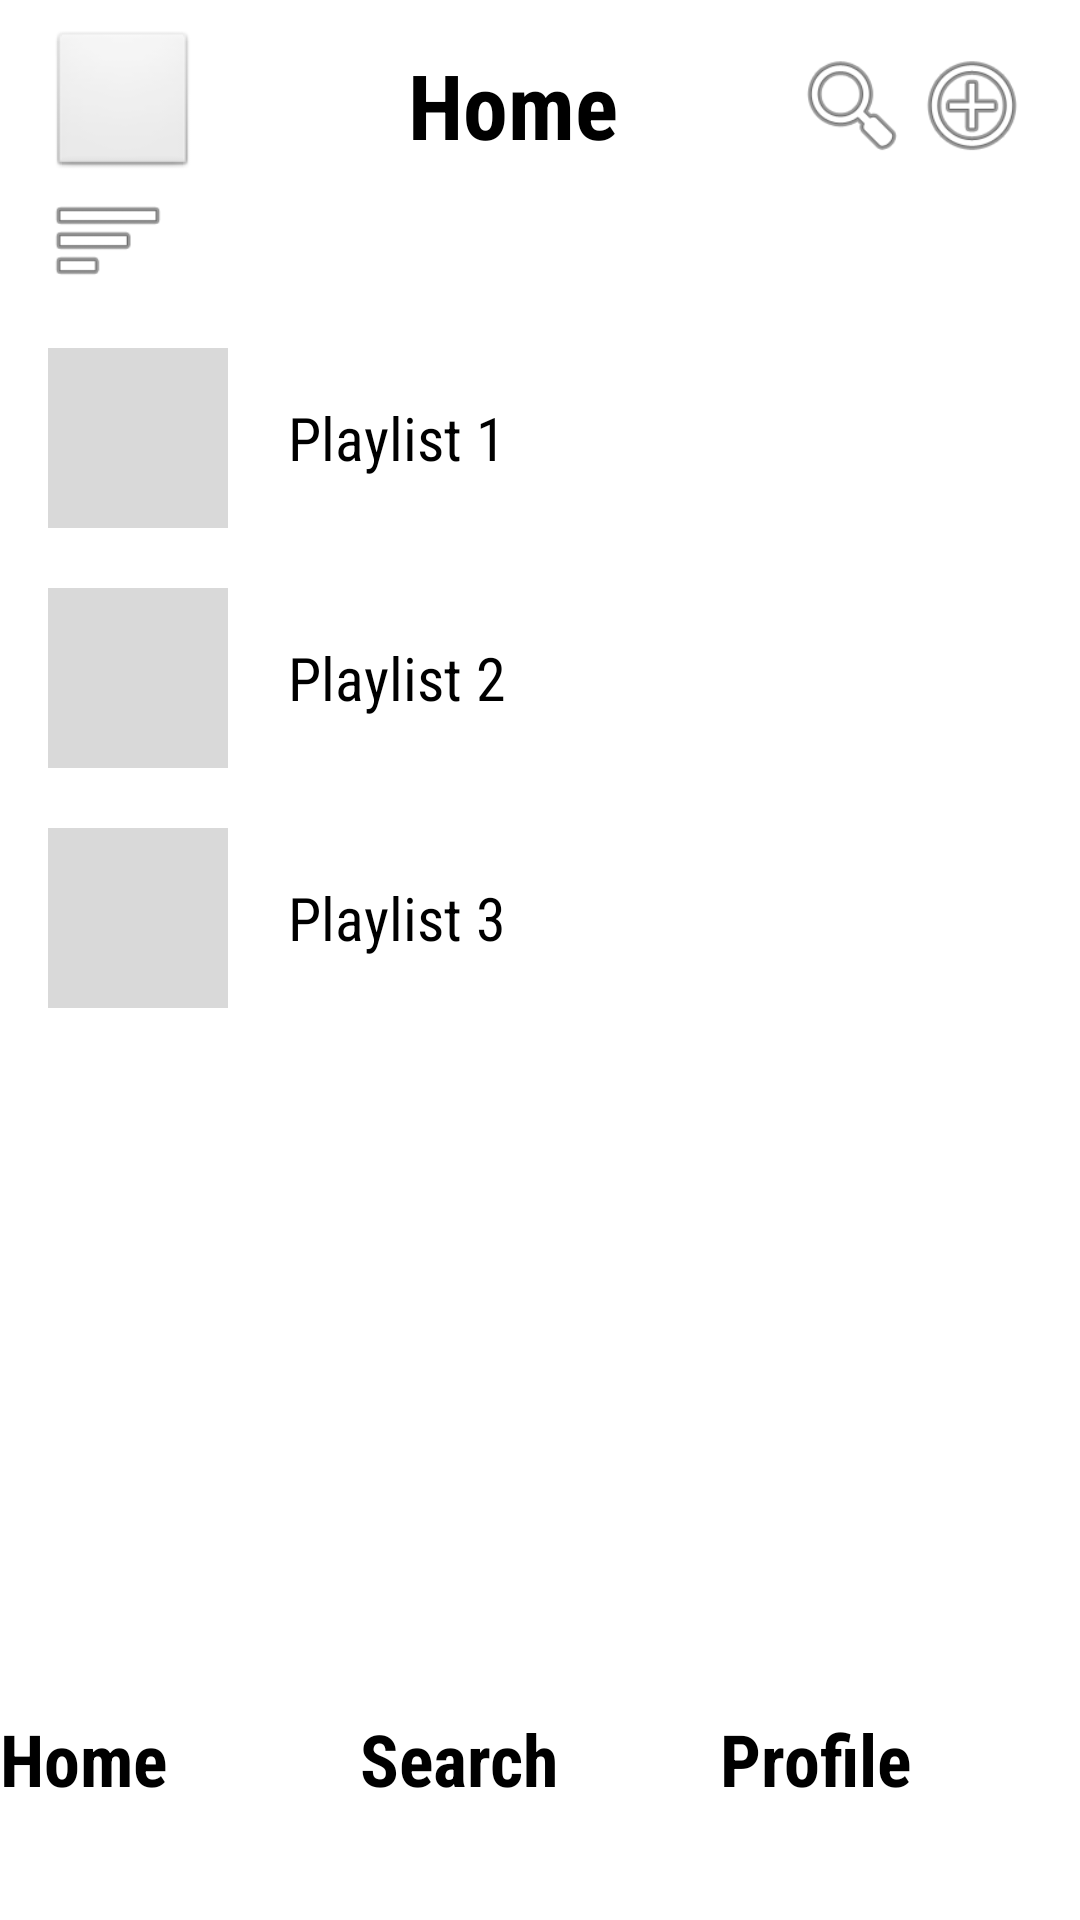

Point at icon controls on the screen. Image size 1080x1920, points as (x=x, y=y).
add: (x=972, y=105)
search: (x=851, y=105)
sort by size: (x=108, y=240)
